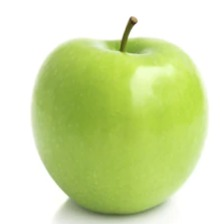apple: (14, 4, 191, 191)
